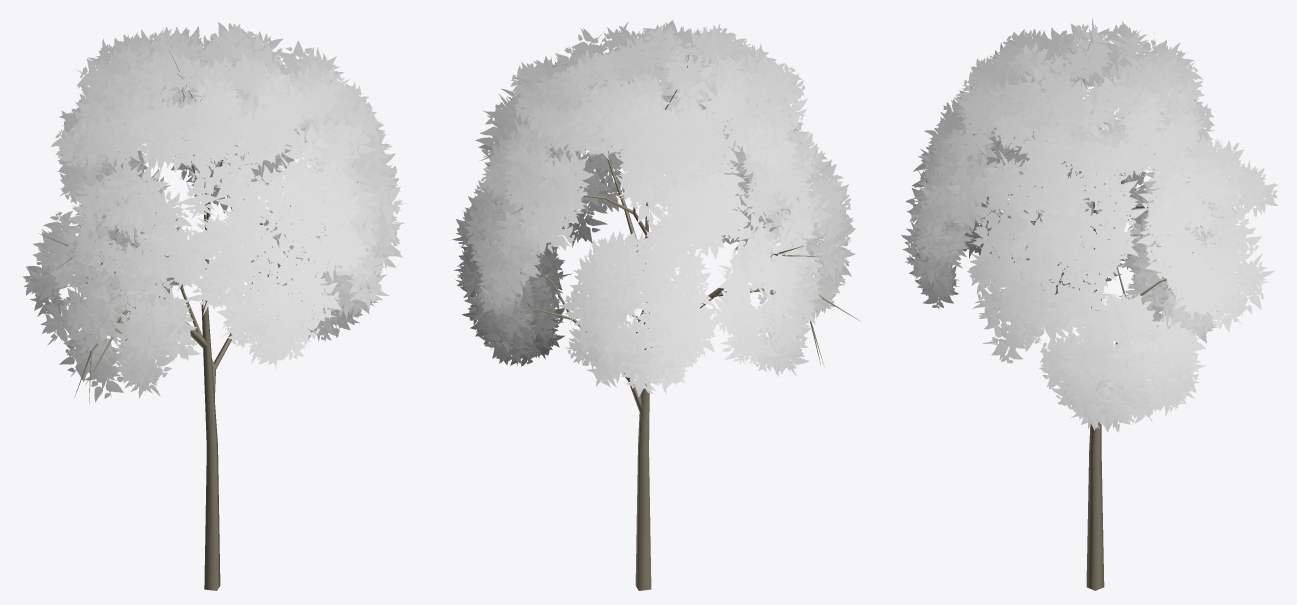
File: new stylized tree.fbx
The picture shows the model from 3 angles, left to right: view 1: azimuth 30°, elevation 25°; view 2: azimuth 150°, elevation 25°; view 3: azimuth 270°, elevation 25°; orthographic projection. The views are drawn at different scales.
Parts seen in each view (by area): view 1: leaves1, Trunk; view 2: leaves1, Trunk; view 3: leaves1, Trunk.
Part boxes in pixels (x1,y1,x2,y2): leaves1: (23, 22, 406, 402); Trunk: (39, 51, 360, 590); leaves1: (452, 20, 856, 397); Trunk: (504, 55, 860, 590); leaves1: (901, 18, 1278, 432); Trunk: (997, 37, 1213, 590).
Bounding box in the file's own units: 450 × 675 × 442.
